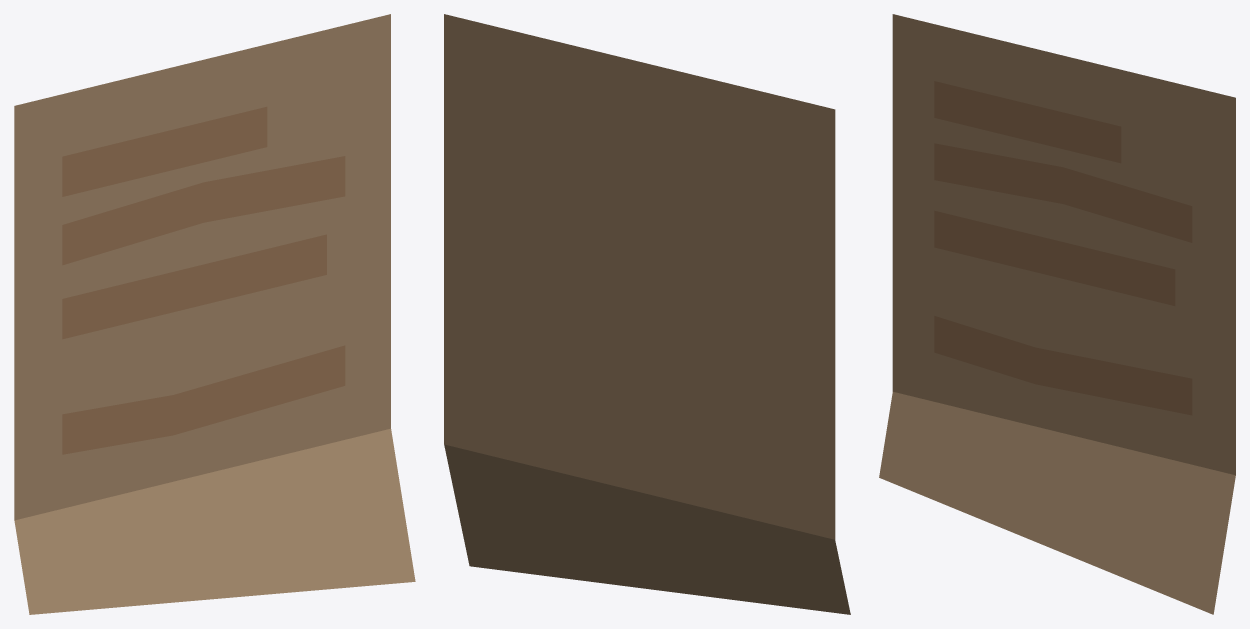
The model's file is SM_Note_A.fbx.
The picture shows the model from 3 angles, left to right: view 1: azimuth 30°, elevation 25°; view 2: azimuth 150°, elevation 25°; view 3: azimuth 330°, elevation 25°; orthographic projection. The views are drawn at different scales.
Visible parts, largest first — view 1: SM_Note_A; view 2: SM_Note_A; view 3: SM_Note_A.
Boxes of the visible parts, x1,y1,x2,y2 form: SM_Note_A: (14, 14, 415, 614); SM_Note_A: (444, 14, 850, 614); SM_Note_A: (879, 14, 1235, 614).
Bounding box in the file's own units: 18.64 × 26 × 2.1.
